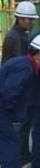boots: (0, 161, 16, 168), (0, 163, 6, 168)
hard-hat: (0, 0, 14, 14)
ppe-suit: (0, 33, 40, 168)
